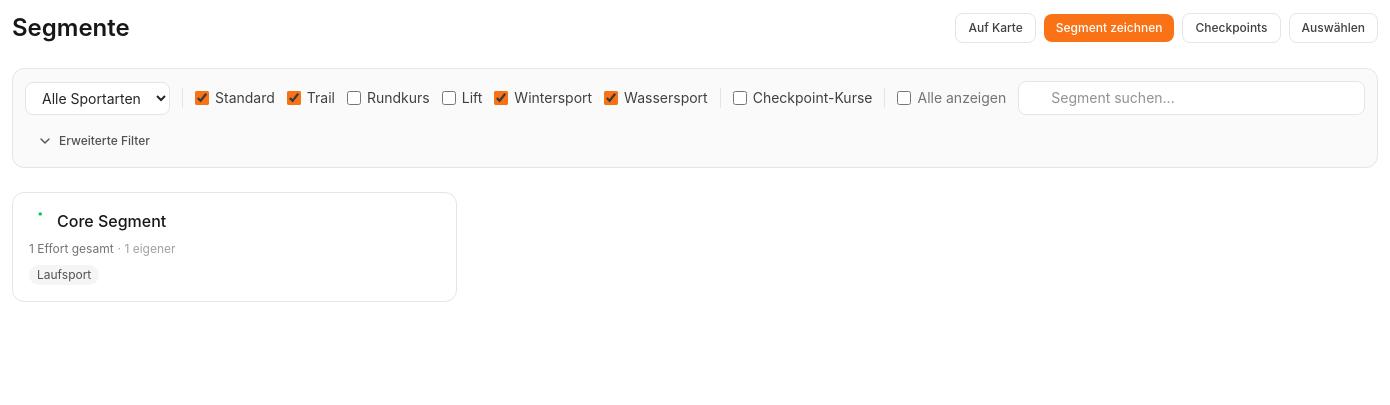
SegmentsPage filters › keeps core-safe segment actions but hides full-only recompute and enrichment filters
The width and height of the screenshot is (1390, 405).
Check: the heading "Core Segment" is shown, box [57,209,166,233]
Check: the button "Segment zeichnen" is shown, box [1044,14,1174,42]
Click the button "Erweiterte Filter" at coordinates (93, 141), box [25,127,162,155]
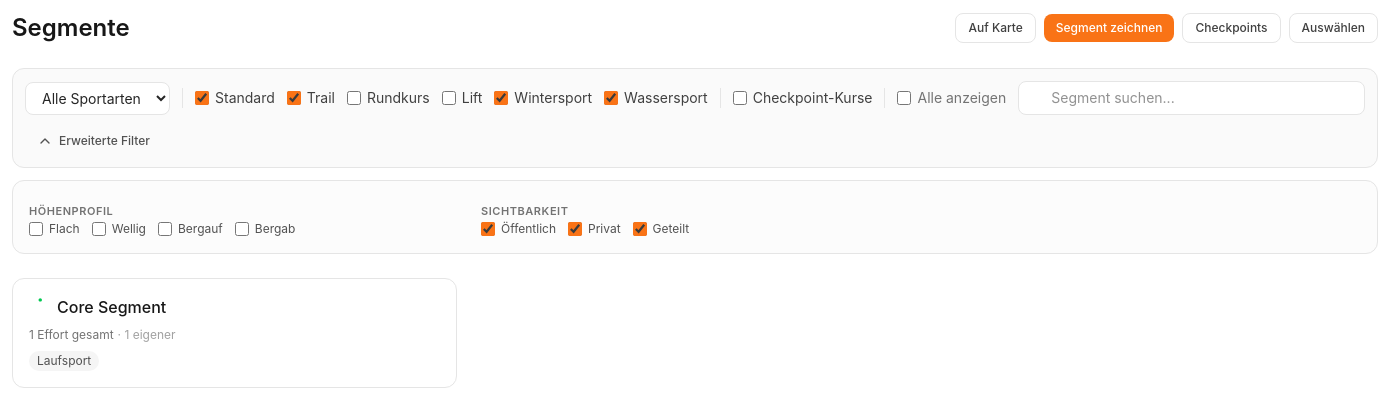
Check: the text "Sichtbarkeit" is shown, box [481,204,568,218]
